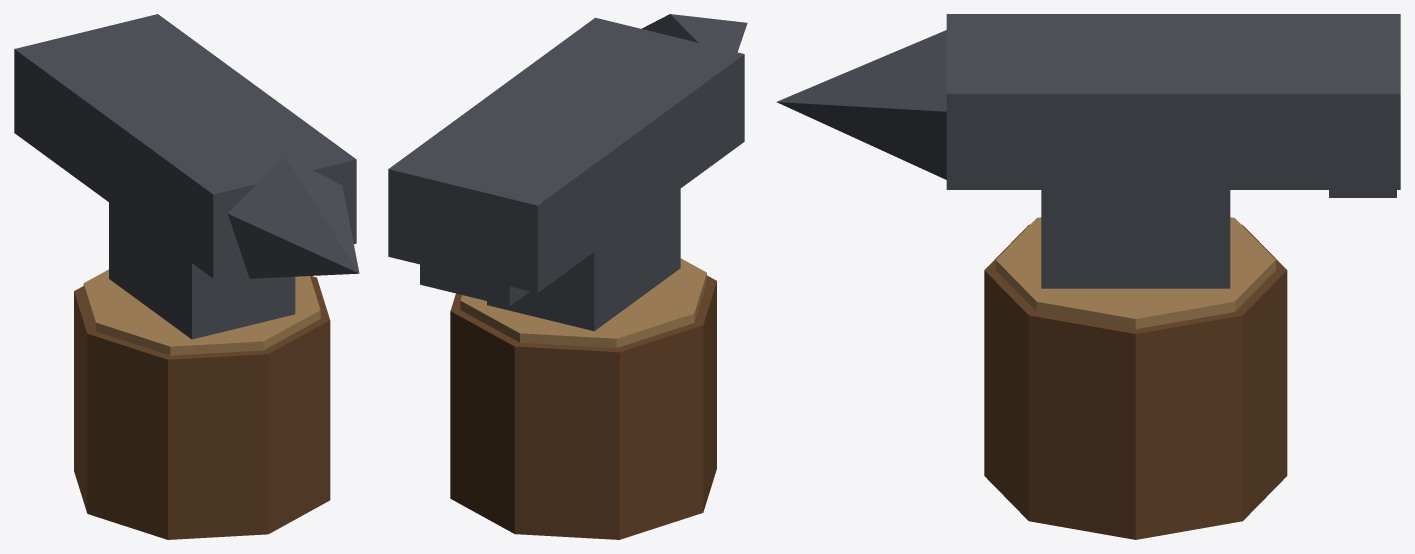
Rendered from ind_anvil.glb.
3 renders of one model, left to right at view 1: azimuth 30°, elevation 25°; view 2: azimuth 150°, elevation 25°; view 3: azimuth 270°, elevation 25°, orthographic. The views are drawn at different scales.
Parts seen in each view (by area): view 1: ind_anvil; view 2: ind_anvil; view 3: ind_anvil.
Boxes of the visible parts, x1,y1,x2,y2 form: ind_anvil: (14,14,359,539); ind_anvil: (388,14,747,539); ind_anvil: (776,14,1400,539).
Size of the model in its own units: 0.08 by 0.13 by 0.165.
